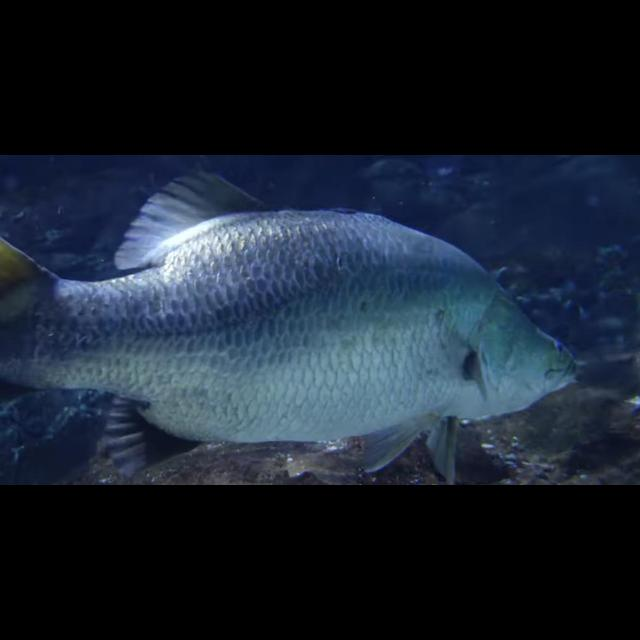Seabass: (0, 169, 588, 485)
